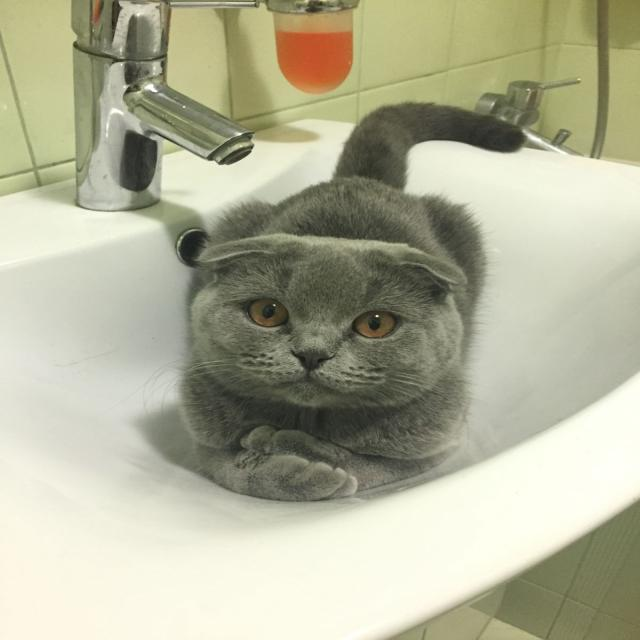british shorthair: (71, 28, 612, 564)
